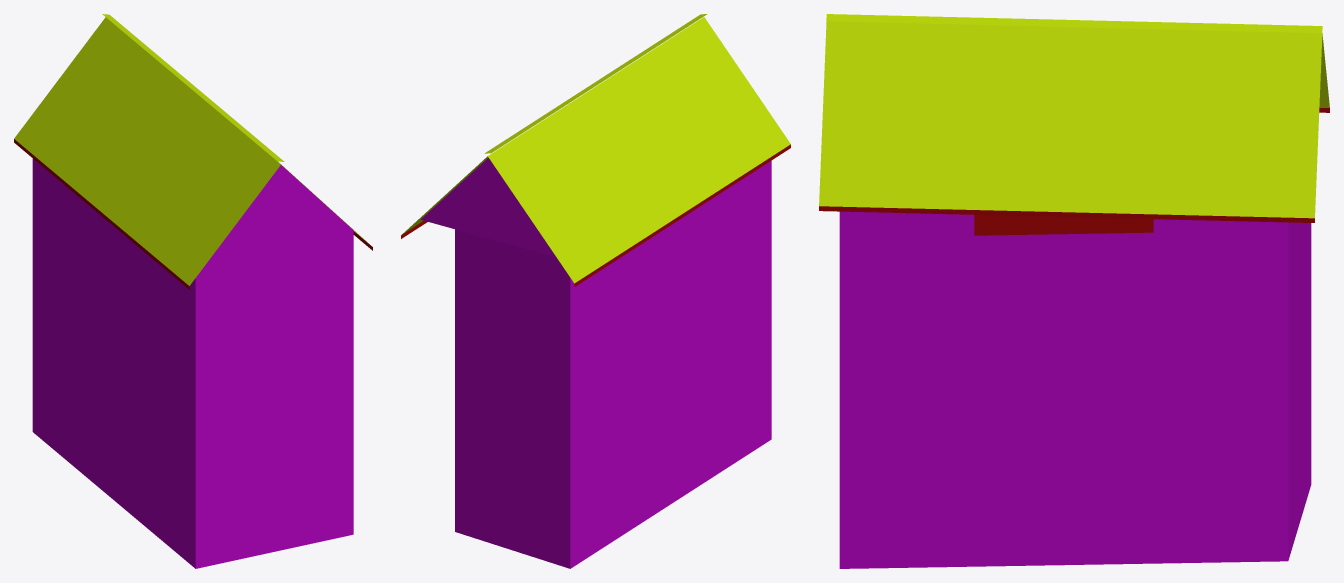
File: bgj_310.glb
The picture shows the model from 3 angles, left to right: view 1: azimuth 30°, elevation 25°; view 2: azimuth 150°, elevation 25°; view 3: azimuth 270°, elevation 25°; orthographic projection. The views are drawn at different scales.
Parts seen in each view (by area): view 1: bgj_310; view 2: bgj_310; view 3: bgj_310.
Boxes of the visible parts, x1,y1,x2,y2 form: bgj_310: (14, 14, 372, 568); bgj_310: (401, 14, 790, 568); bgj_310: (819, 14, 1329, 568).
Size of the model in its own units: 6.53 by 12.57 by 11.53.
